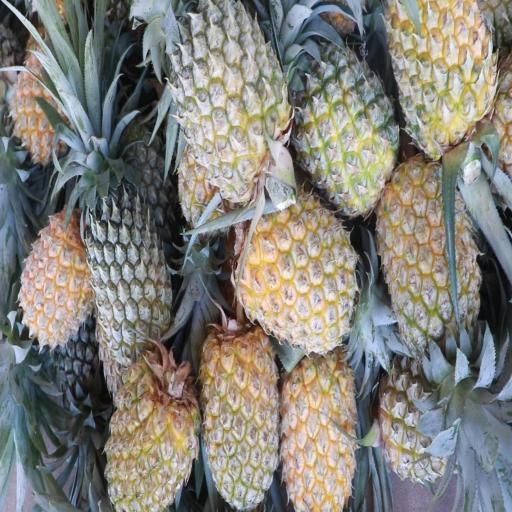------------------------------: (170, 6, 286, 190), (297, 52, 394, 216), (384, 357, 470, 481)
Pineapple - v8 v1: (384, 162, 484, 341), (242, 188, 354, 344), (389, 0, 499, 143), (200, 325, 278, 504), (106, 361, 196, 512), (283, 346, 357, 512), (24, 210, 97, 345), (12, 40, 85, 160)
